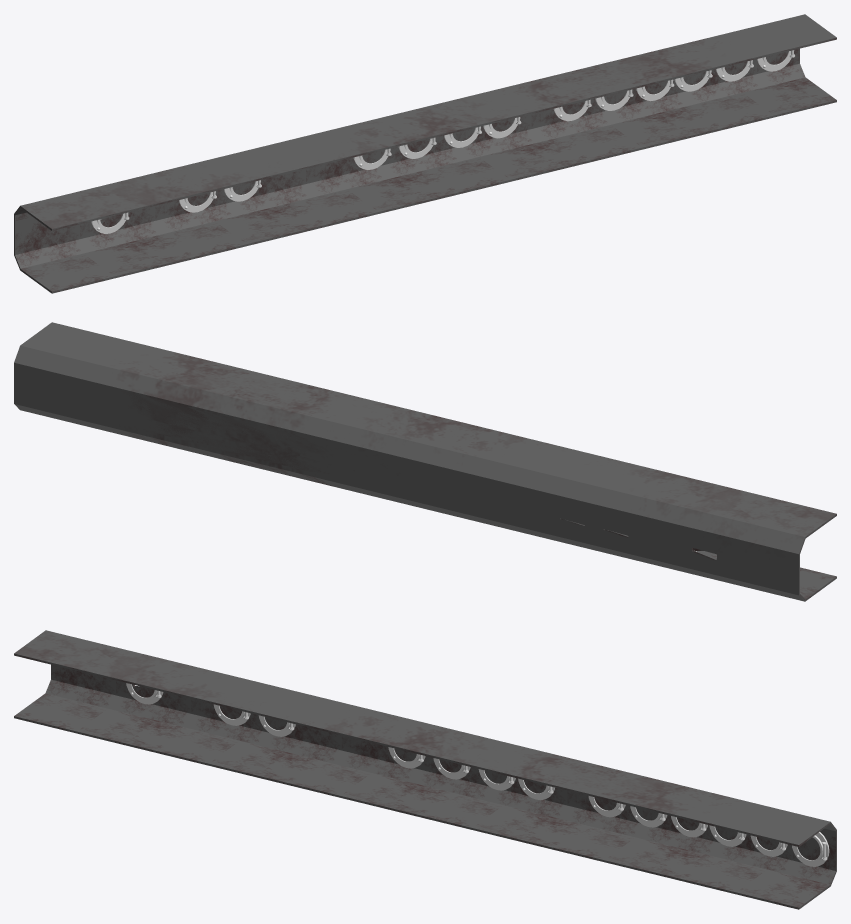
Rendered from Salle2GameplayNew.fbx.
3 renders of one model, top to bottom at view 1: azimuth 30°, elevation 25°; view 2: azimuth 150°, elevation 25°; view 3: azimuth 330°, elevation 25°, orthographic.
Visible parts, largest first — view 1: Cube.044, Cube.045; view 2: Cube.044, Cube.045; view 3: Cube.044, Cube.045.
Boxes of the visible parts, left/top/right/bottom form: Cube.044: left=14, top=14, right=836, bottom=269; Cube.045: left=20, top=77, right=836, bottom=293; Cube.044: left=14, top=322, right=836, bottom=601; Cube.045: left=567, top=520, right=836, bottom=601; Cube.044: left=14, top=630, right=836, bottom=885; Cube.045: left=14, top=693, right=830, bottom=909.
Size of the model in its own units: 4419 by 348 by 370.
